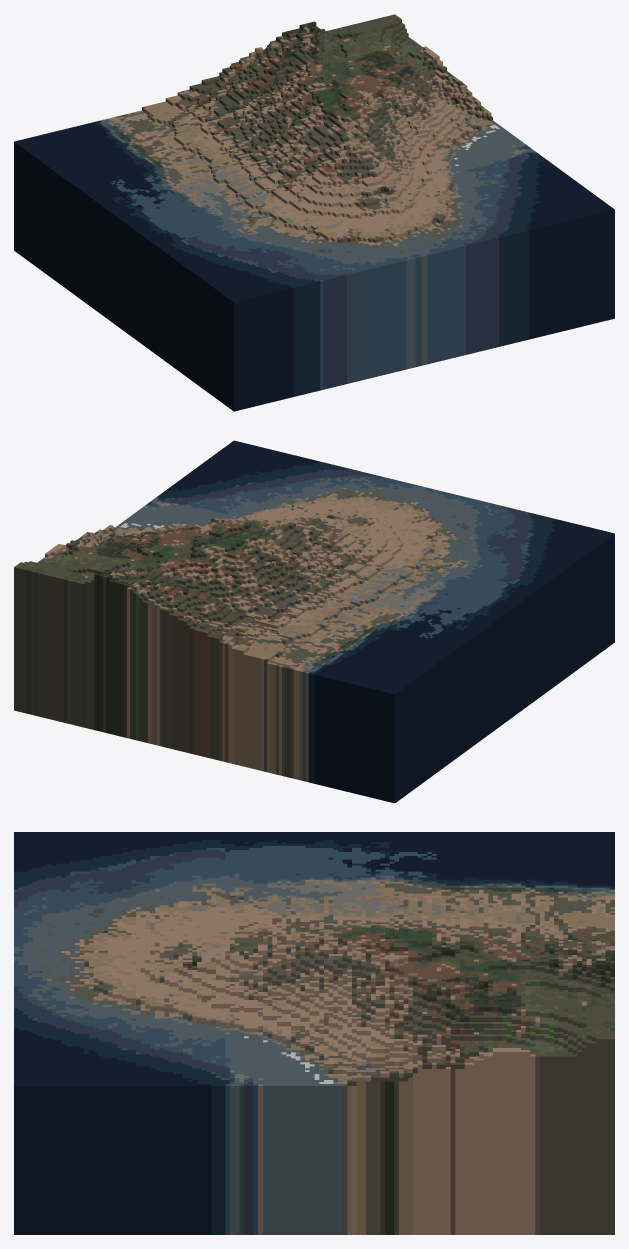
Rendered from MapⅤ3-3.obj.
3 views of the same model, one above another, from view 1: azimuth 30°, elevation 25°; view 2: azimuth 150°, elevation 25°; view 3: azimuth 270°, elevation 25° (orthographic). The views are drawn at different scales.
Bounding box in the file's own units: 12.8 × 5 × 12.8.
Materials: 1 (1 with a texture image).
